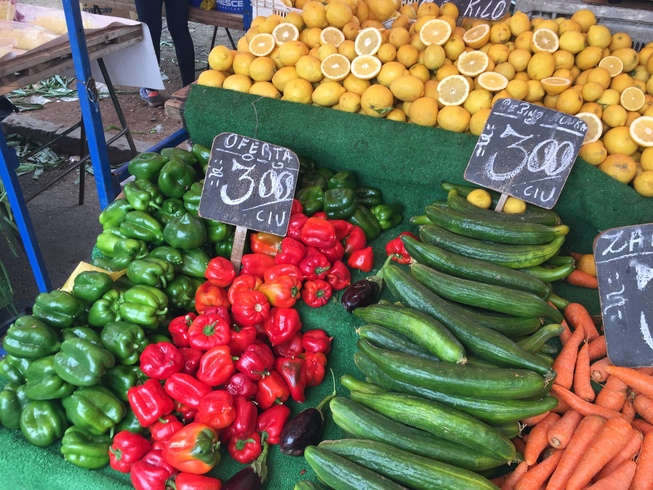precio: (463, 94, 589, 216), (193, 125, 306, 248), (594, 220, 653, 374)
